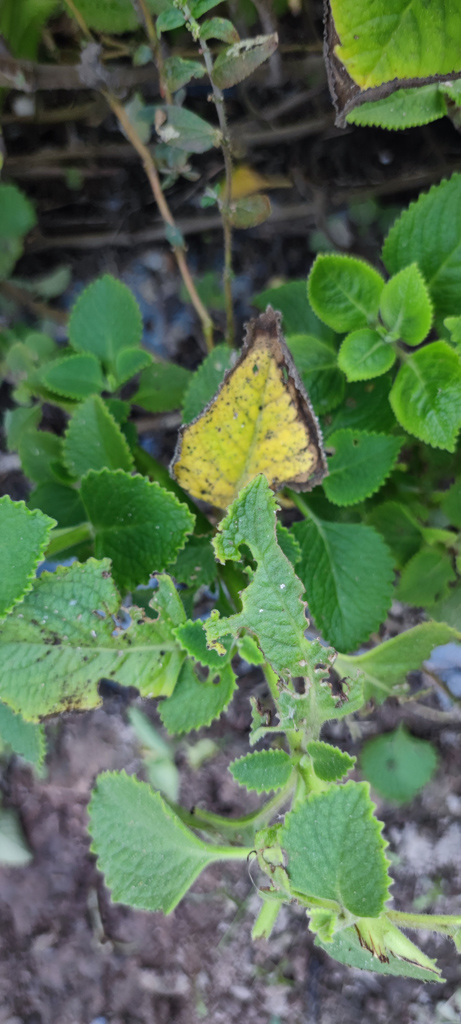Pepper yellow leaf: (166, 309, 350, 540)
